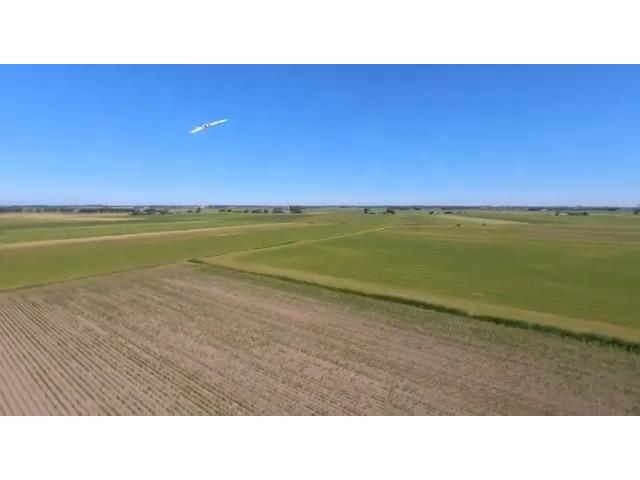Anti-Drone: (184, 115, 236, 136)
